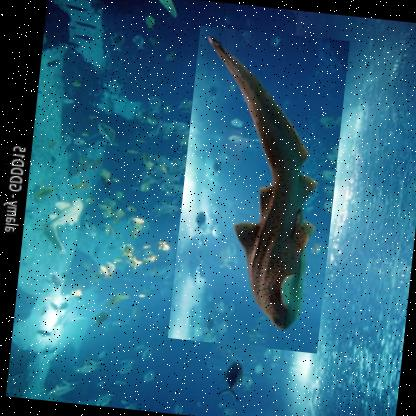zebra_shark: (166, 23, 350, 352)
